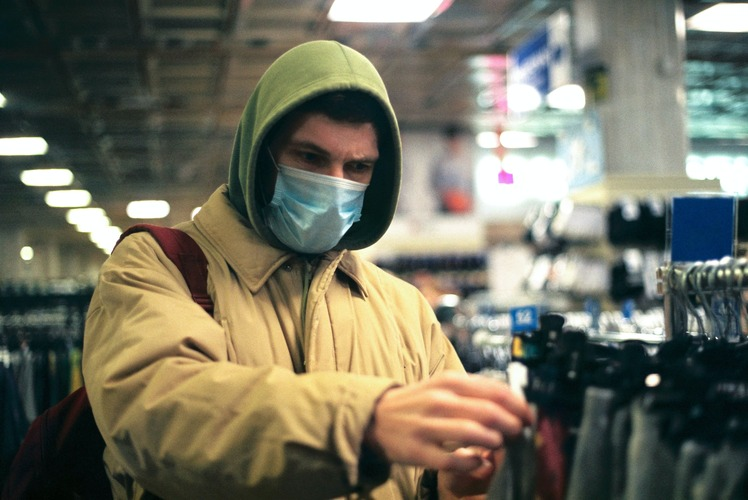with_mask: (271, 108, 373, 248)
